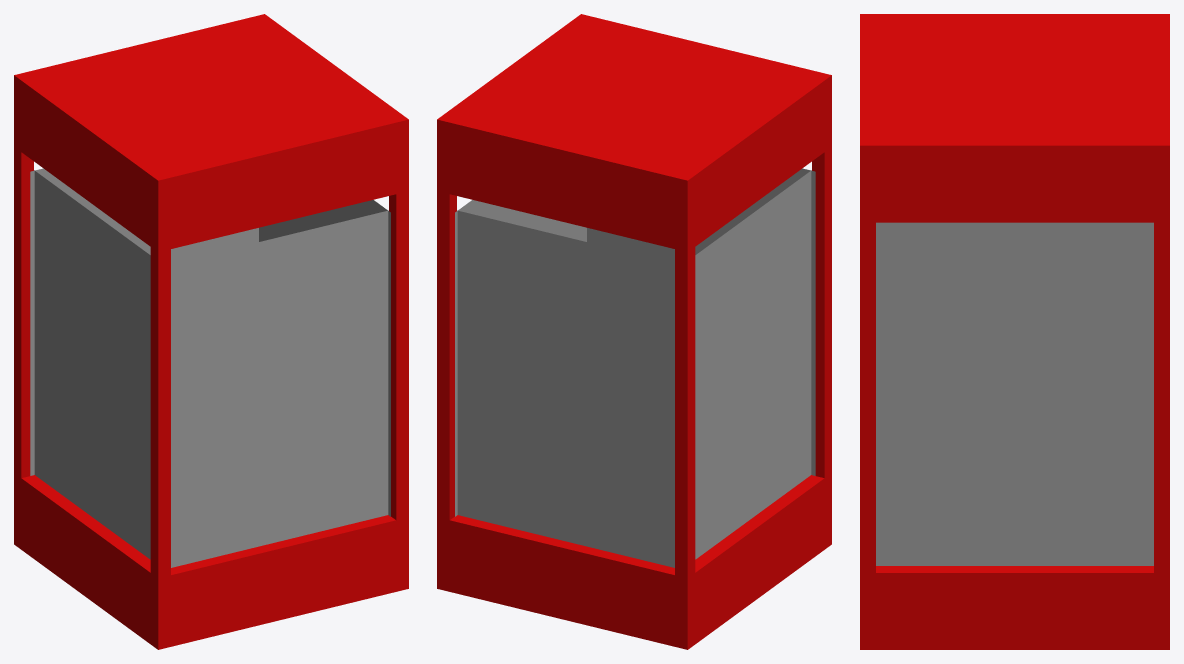
The model's file is CubeCapsule4side.fbx.
3 renders of one model, left to right at view 1: azimuth 30°, elevation 25°; view 2: azimuth 150°, elevation 25°; view 3: azimuth 270°, elevation 25°, orthographic. The views are drawn at different scales.
Visible parts, largest first — view 1: Capsule, Invisible_Wall1, Invisible_Wall2, Invisible_Wall3, Invisible_Wall4; view 2: Capsule, Invisible_Wall3, Invisible_Wall2, Invisible_Wall1, Invisible_Wall4; view 3: Capsule, Invisible_Wall4, Invisible_Wall2.
Part boxes in pixels (left/top/right/bottom): Capsule: left=14, top=14, right=408, bottom=649; Invisible_Wall1: left=171, top=210, right=388, bottom=567; Invisible_Wall2: left=34, top=170, right=150, bottom=559; Invisible_Wall3: left=30, top=168, right=258, bottom=475; Invisible_Wall4: left=259, top=200, right=390, bottom=516; Capsule: left=437, top=14, right=831, bottom=649; Invisible_Wall3: left=457, top=210, right=674, bottom=567; Invisible_Wall2: left=695, top=170, right=811, bottom=559; Invisible_Wall1: left=587, top=168, right=815, bottom=475; Invisible_Wall4: left=455, top=200, right=586, bottom=516; Capsule: left=860, top=14, right=1169, bottom=649; Invisible_Wall4: left=876, top=238, right=1153, bottom=565; Invisible_Wall2: left=876, top=222, right=1153, bottom=238.
Size of the model in its own units: 1.93 by 3.45 by 1.92.
